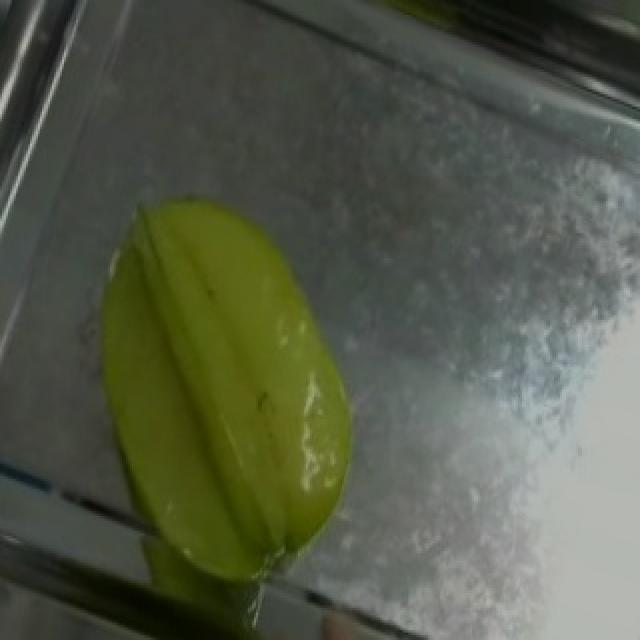fruit: (34, 159, 418, 585)
